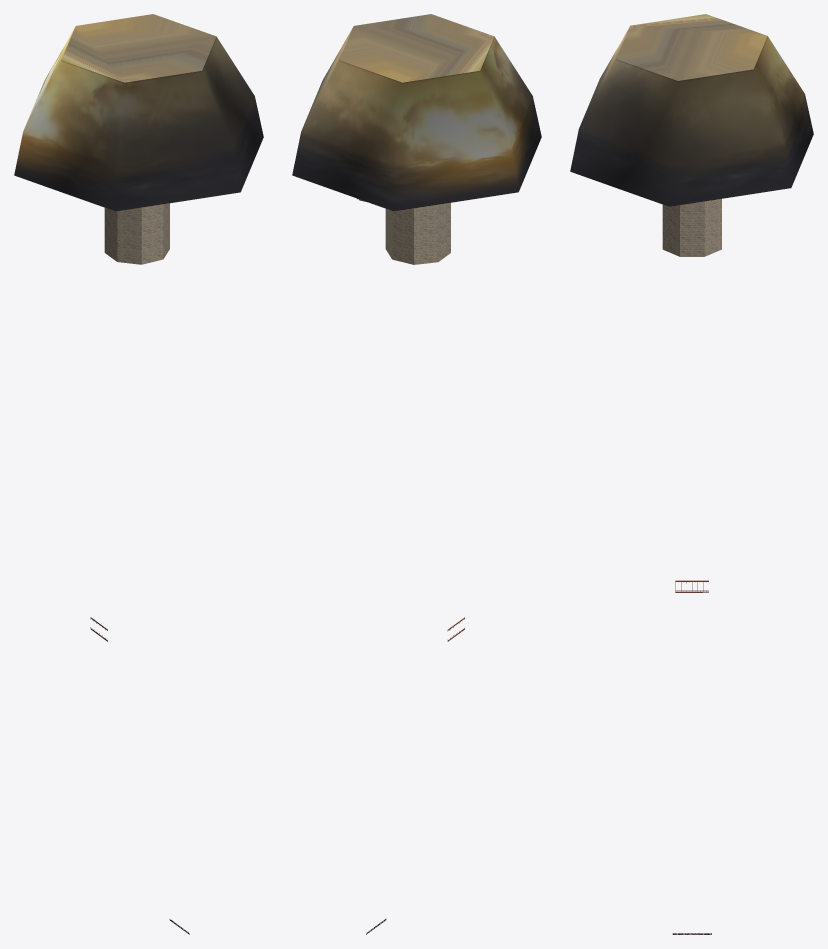
File: magakhan_endboss_level.glb
The picture shows the model from 3 angles, left to right: view 1: azimuth 30°, elevation 25°; view 2: azimuth 150°, elevation 25°; view 3: azimuth 270°, elevation 25°; orthographic projection. The views are drawn at different scales.
Visible parts, largest first — view 1: skybox, endbossarea; view 2: skybox, endbossarea; view 3: skybox, endbossarea.
Part boxes in pixels (x1=…): skybox: x1=14, y1=14, x2=263, y2=211; endbossarea: x1=104, y1=203, x2=169, y2=264; skybox: x1=292, y1=14, x2=541, y2=211; endbossarea: x1=385, y1=203, x2=450, y2=264; skybox: x1=570, y1=14, x2=813, y2=206; endbossarea: x1=662, y1=199, x2=721, y2=256.
Size of the model in its own units: 64.36 by 241 by 61.41.
25 materials, 25 textured.
